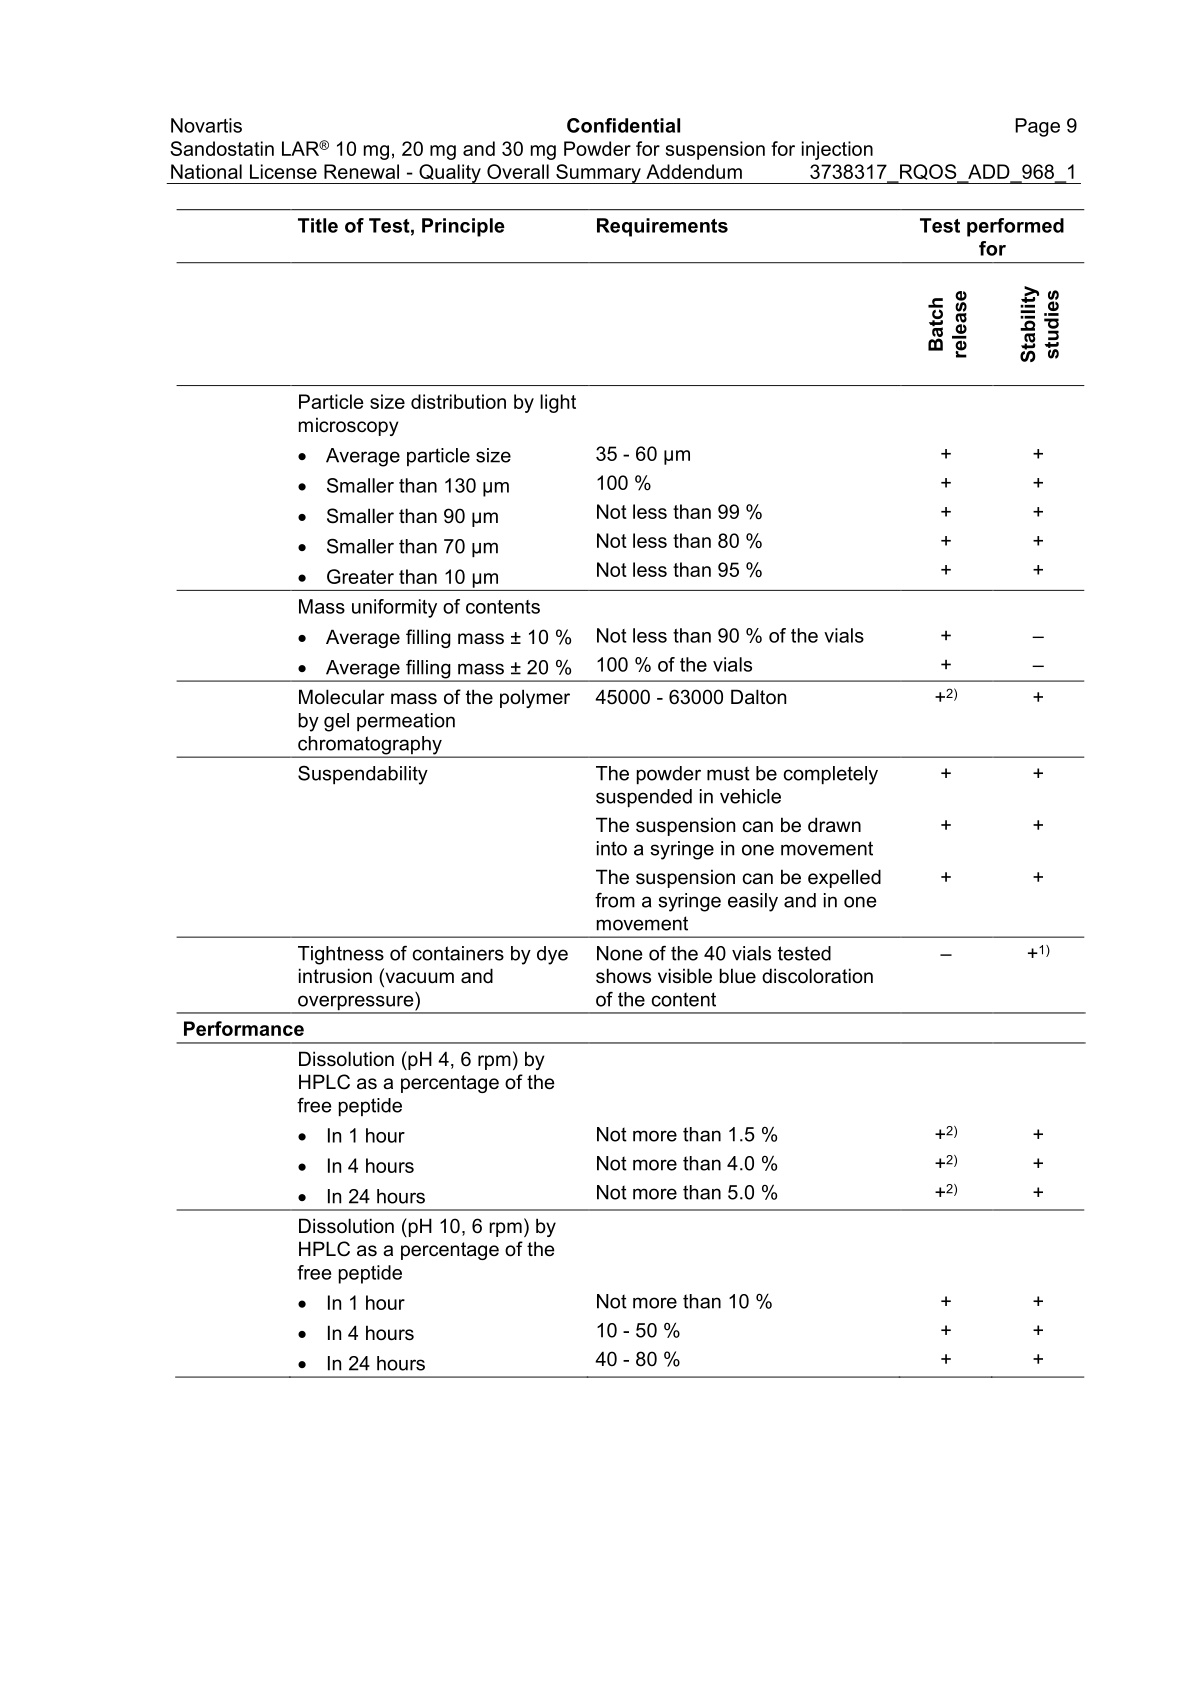partial_lined: (173, 205, 1088, 1380)
